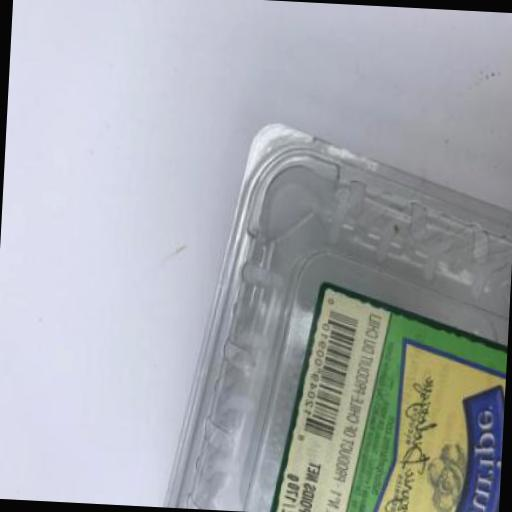plastic: (161, 120, 512, 512)
